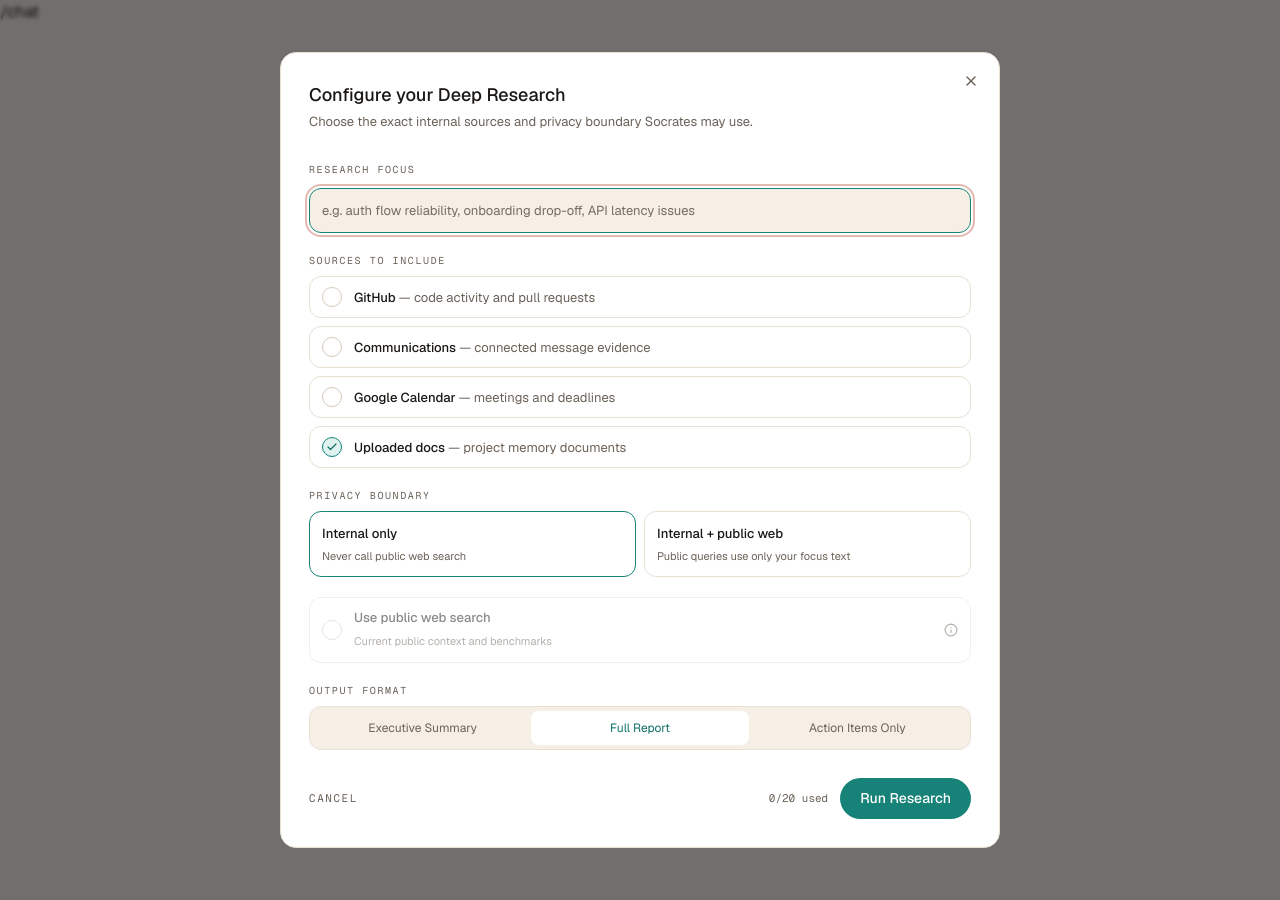
[FIX-22] Deep Research truthful UI › lets the native backend validate configured AI instead of blocking every desktop request
Type "synthetic desktop research" into the field at (640, 211), box [309,188,971,233]
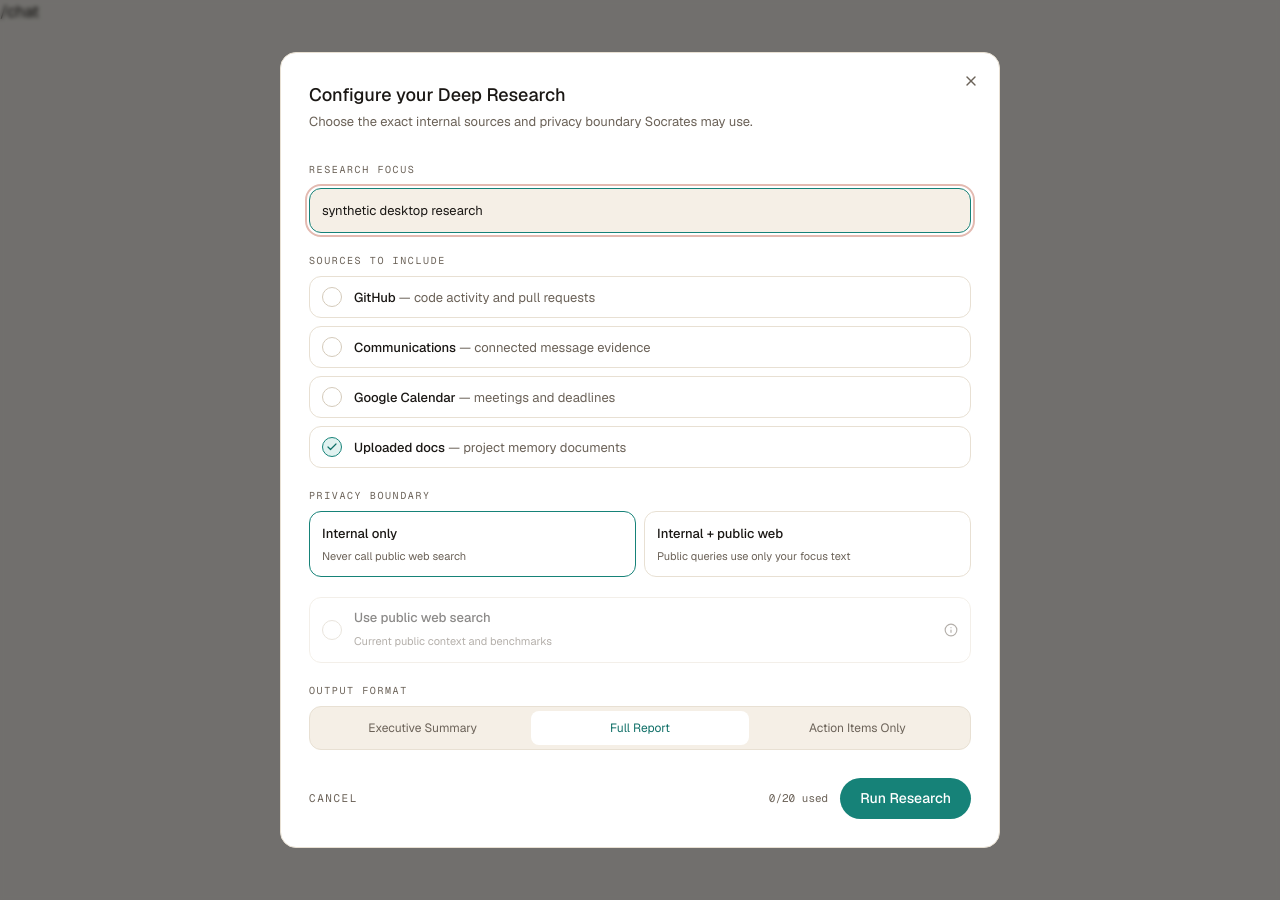
Click the button "Run Research" at (906, 798), box [840,778,971,819]
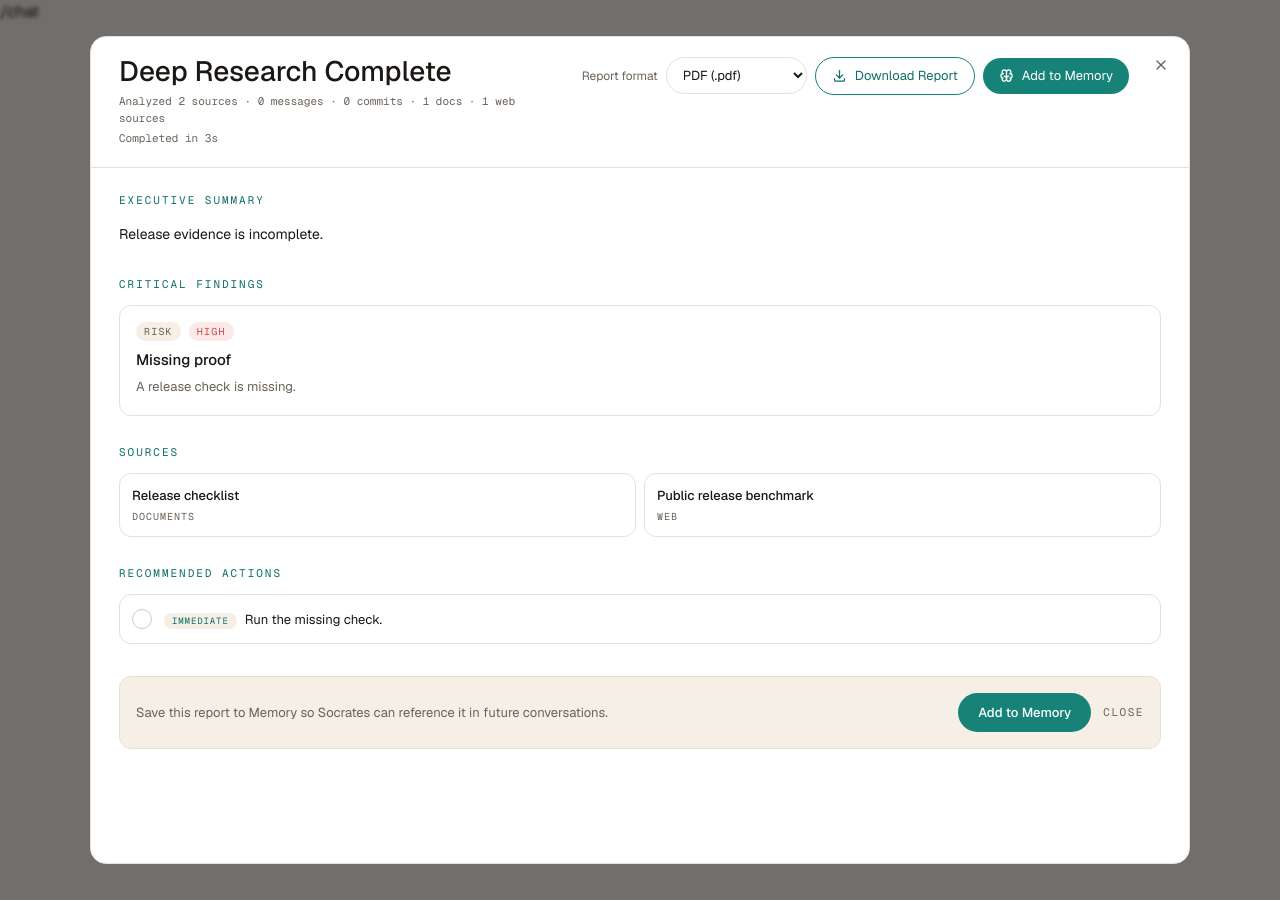
Check: the heading "Deep Research Complete" is shown, box [119,53,452,89]
